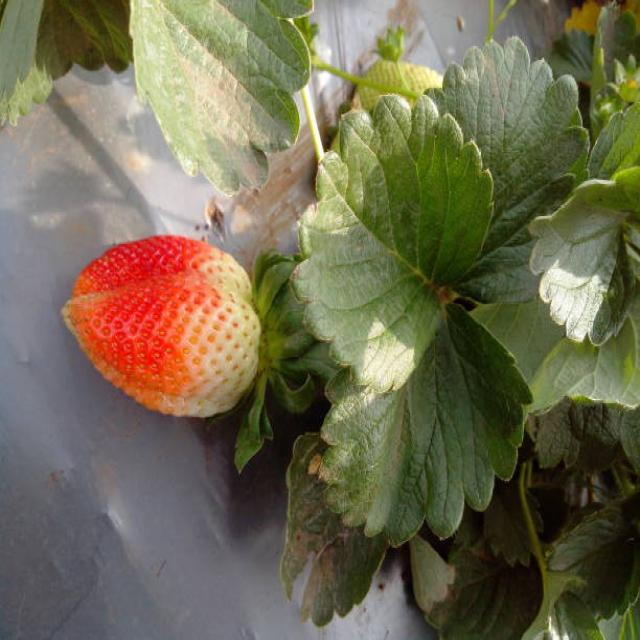Healthy Fruit: (61, 235, 262, 418)
